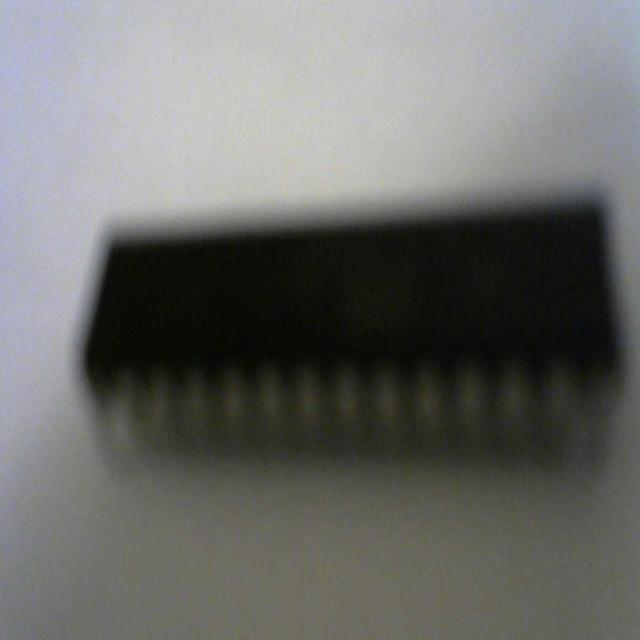atmega: (80, 188, 624, 476)
